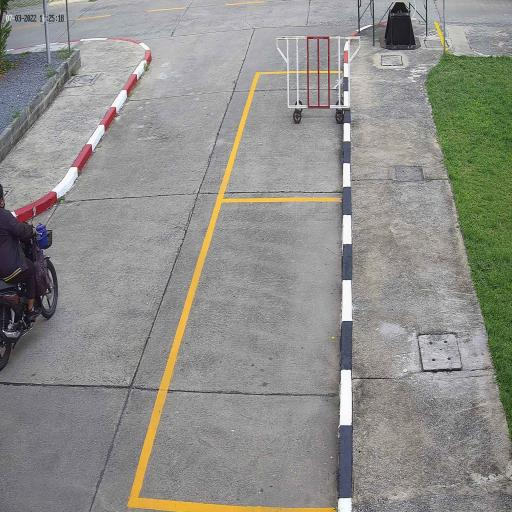motorcycle: (0, 251, 59, 373)
